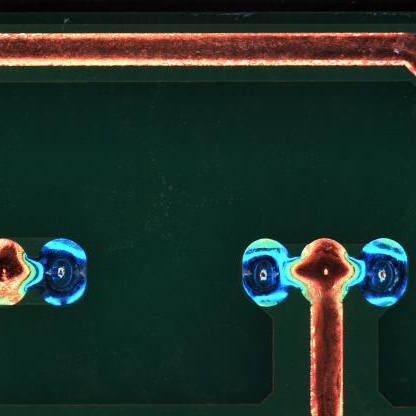spot: (240, 238, 291, 308), (362, 236, 410, 308), (38, 238, 87, 307)
